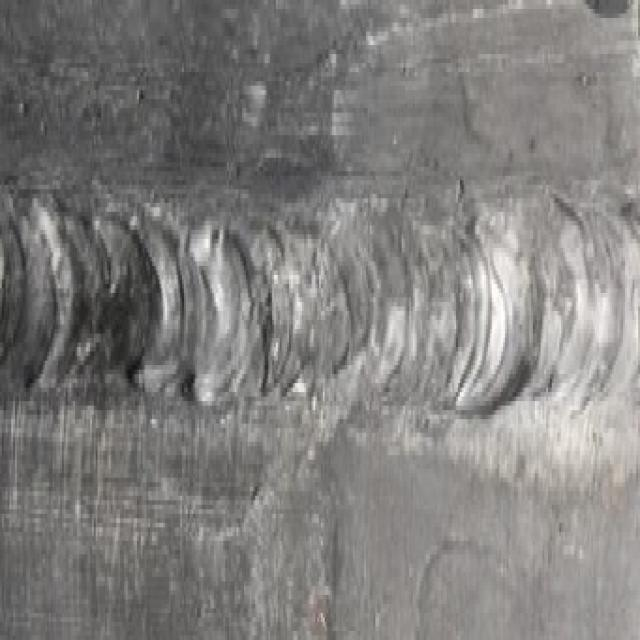Good Weld: (0, 171, 638, 469)
